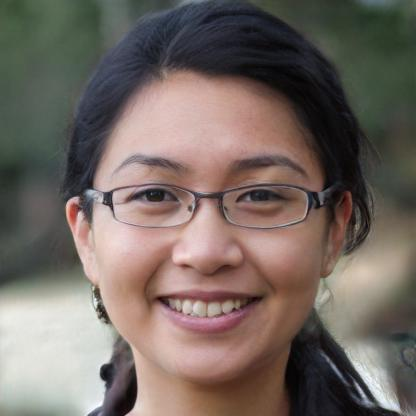glasses: (96, 179, 328, 231)
